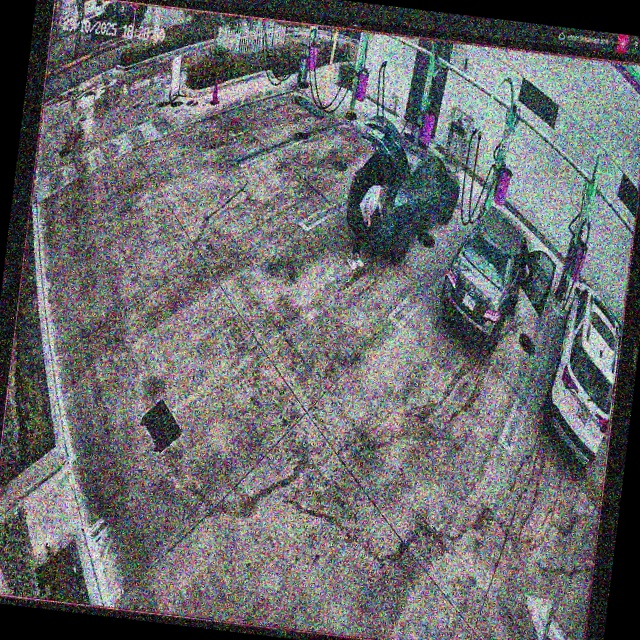Car: (342, 113, 467, 273), (436, 204, 560, 348)
